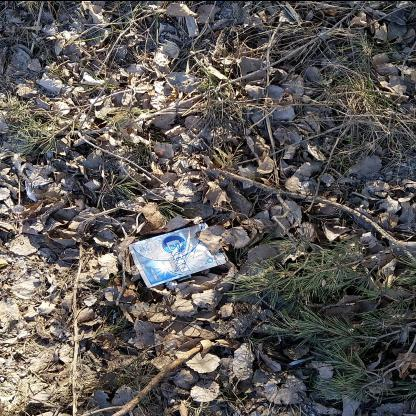plastik: (128, 222, 226, 288)
